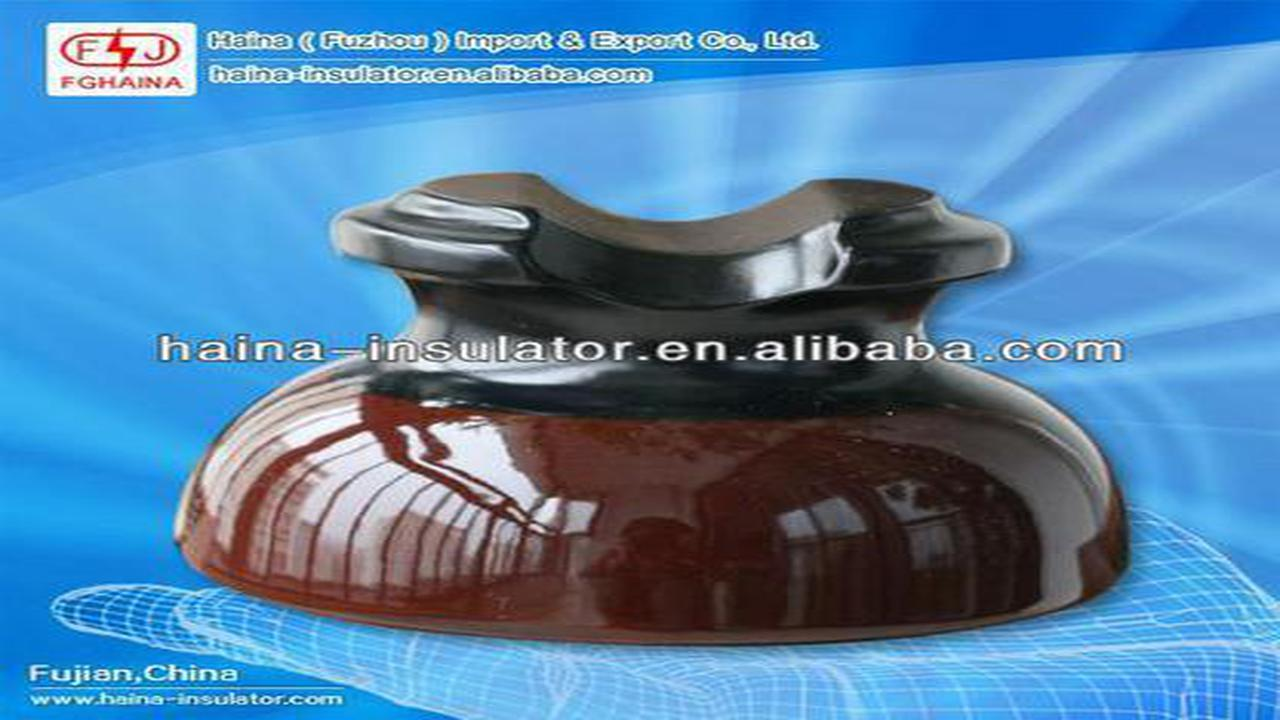insulator_pin: (159, 160, 1148, 653)
